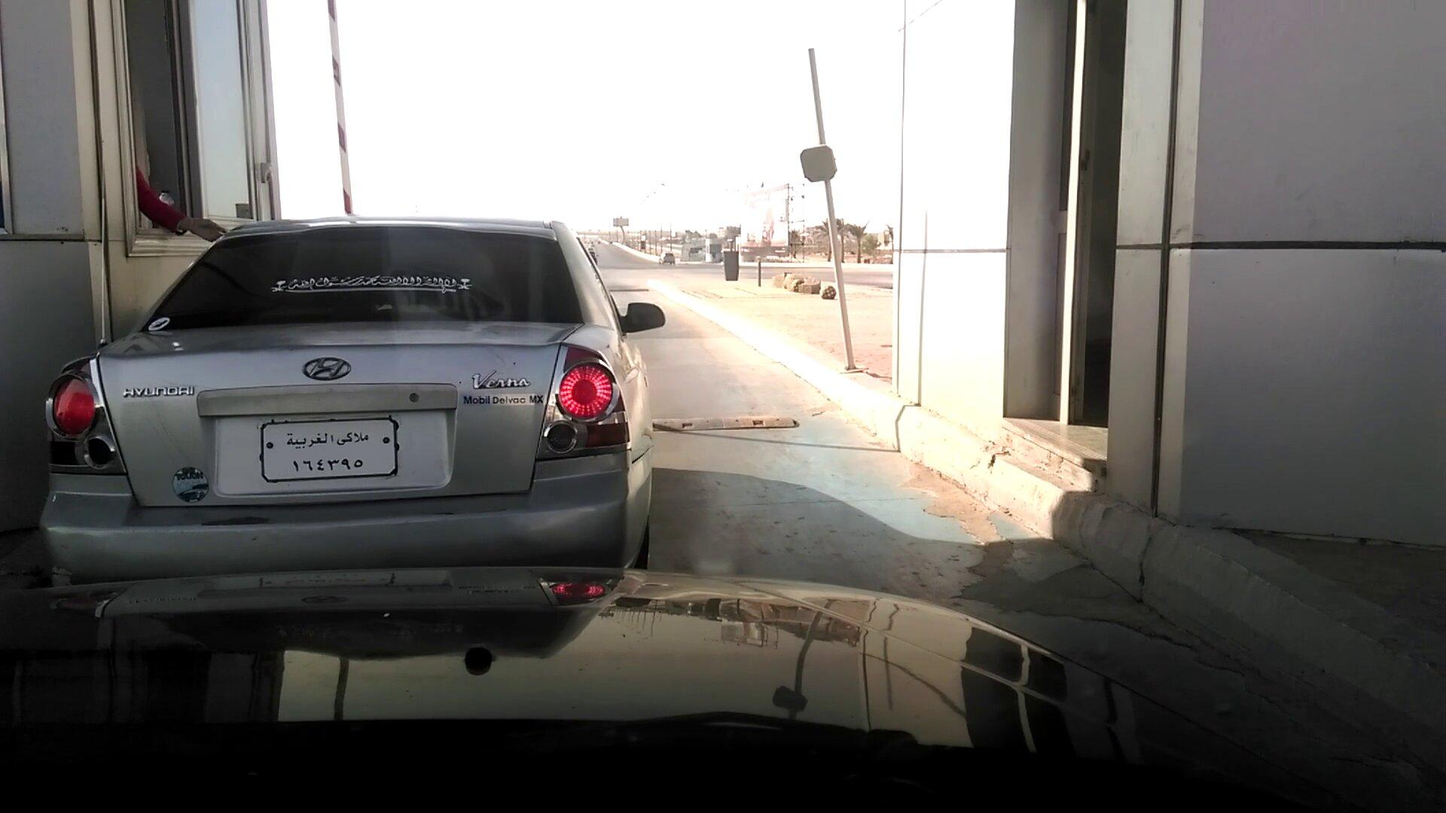Bump: (650, 408, 804, 427)
